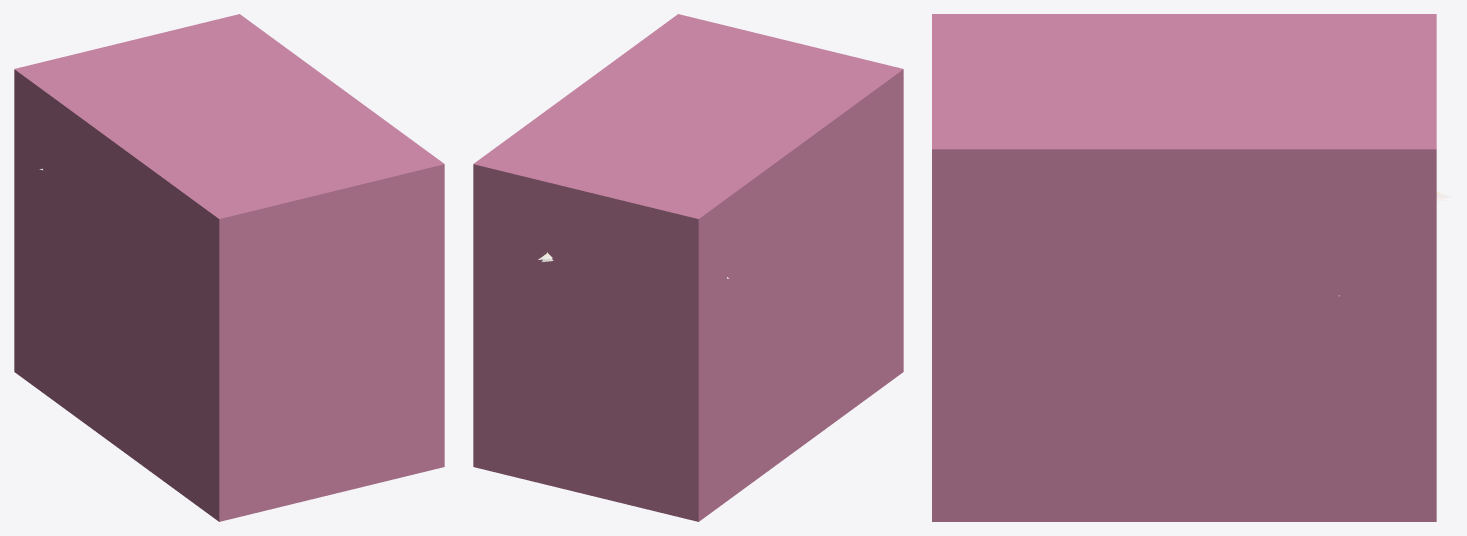
The model's file is tree_palm_overhang_a.dae.
The picture shows the model from 3 angles, left to right: view 1: azimuth 30°, elevation 25°; view 2: azimuth 150°, elevation 25°; view 3: azimuth 270°, elevation 25°; orthographic projection. The views are drawn at different scales.
Parts seen in each view (by area): view 1: Untitled; view 2: Untitled; view 3: Untitled.
Boxes of the visible parts, x1,y1,x2,y2 form: Untitled: [14, 14, 444, 521]; Untitled: [473, 14, 903, 521]; Untitled: [932, 14, 1436, 521].
Size of the model in its own units: 8.53 by 13.64 by 10.77.
